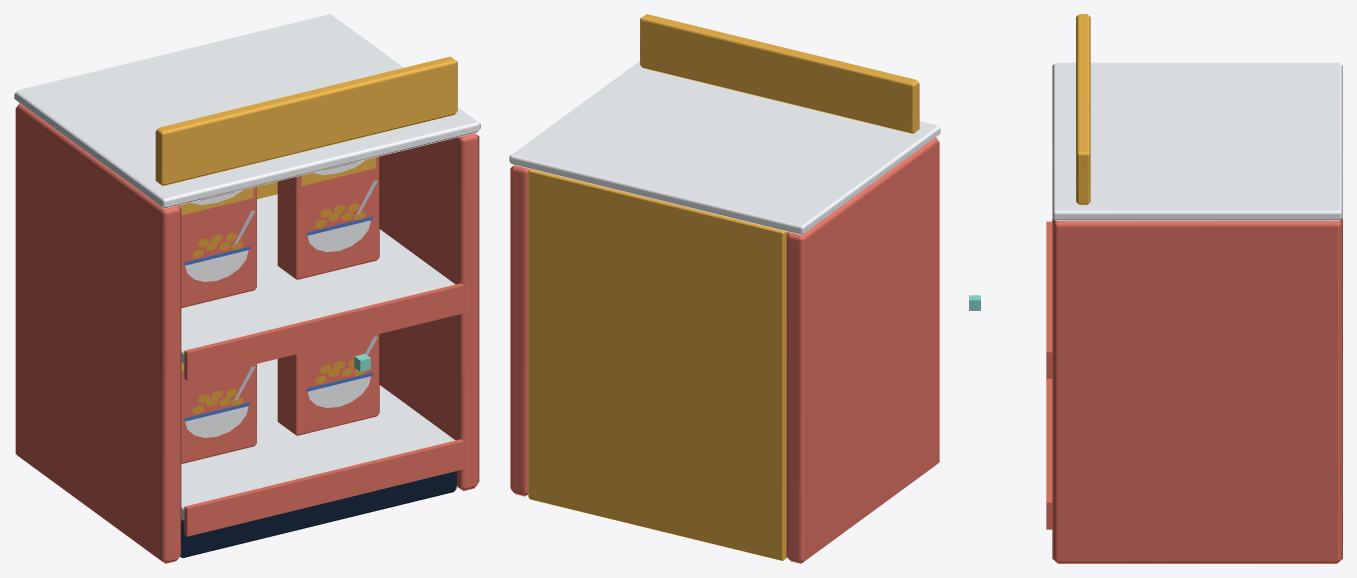
File: CM_Fixture_Endcap.fbx
3 views of the same model, side by side, from view 1: azimuth 30°, elevation 25°; view 2: azimuth 150°, elevation 25°; view 3: azimuth 270°, elevation 25° (orthographic). The views are drawn at different scales.
Visible parts, largest first — view 1: Body, PriceTag, Item4, Item2, Item3, Item1; view 2: Body, PriceTag; view 3: Body, PriceTag.
Boxes of the visible parts, x1=… form: Body: x1=14, y1=14, x2=480, y2=563; PriceTag: x1=155, y1=56, x2=457, y2=185; Item4: x1=277, y1=156, x2=379, y2=279; Item2: x1=277, y1=334, x2=379, y2=435; Item3: x1=177, y1=186, x2=256, y2=308; Item1: x1=181, y1=363, x2=256, y2=464; Body: x1=509, y1=61, x2=940, y2=563; PriceTag: x1=640, y1=14, x2=919, y2=133; Body: x1=1046, y1=62, x2=1342, y2=563; PriceTag: x1=1076, y1=14, x2=1090, y2=204.
Bounding box in the file's own units: 6 × 6.3 × 7.6.
Materials: 1 (1 with a texture image).
